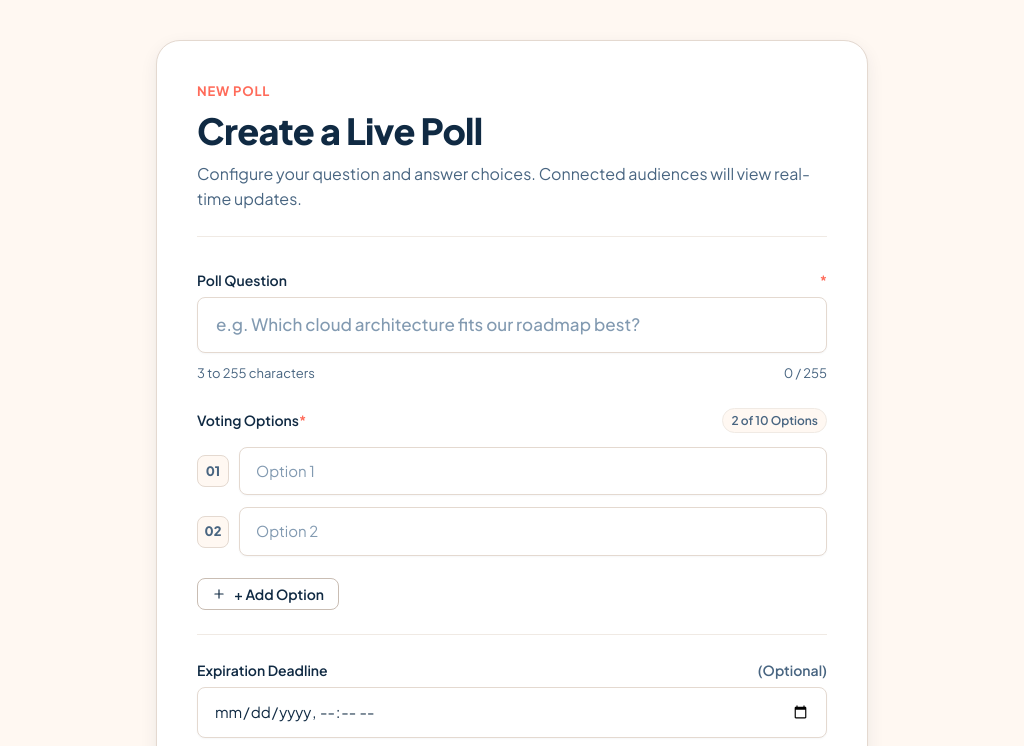
Test: CreatePollPage Validation & Interactions › allows adding options up to 10 and removing down to 2
Expected: the number of fields with placeholder "Option 1" is 2, [239, 447, 827, 495]; [239, 507, 827, 556]
Note: Add 3rd option
Click the button "+ Add Option". click: click(268, 594)
box: [197, 578, 339, 610]
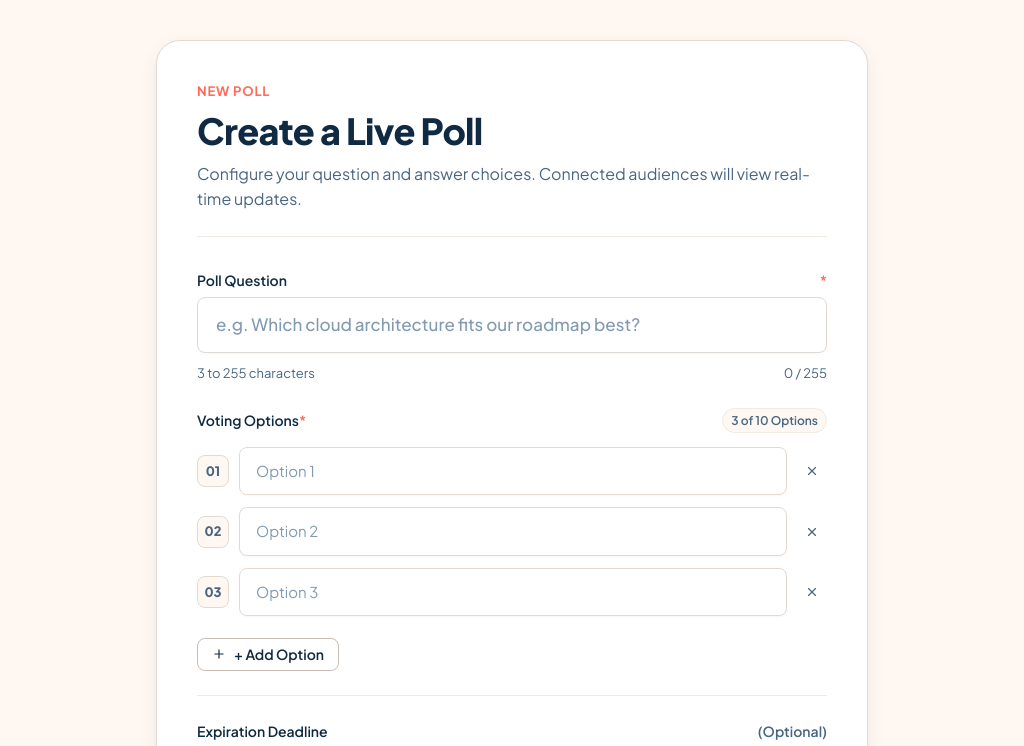
Expected: the number of fields with placeholder "Option 1" is 3, [239, 447, 787, 495]; [239, 507, 787, 556]; [239, 568, 787, 616]
Expected: the button titled "Remove this option" is shown, [797, 456, 827, 486]
Click the button titled "Remove this option". click: click(812, 592)
box: [797, 577, 827, 607]
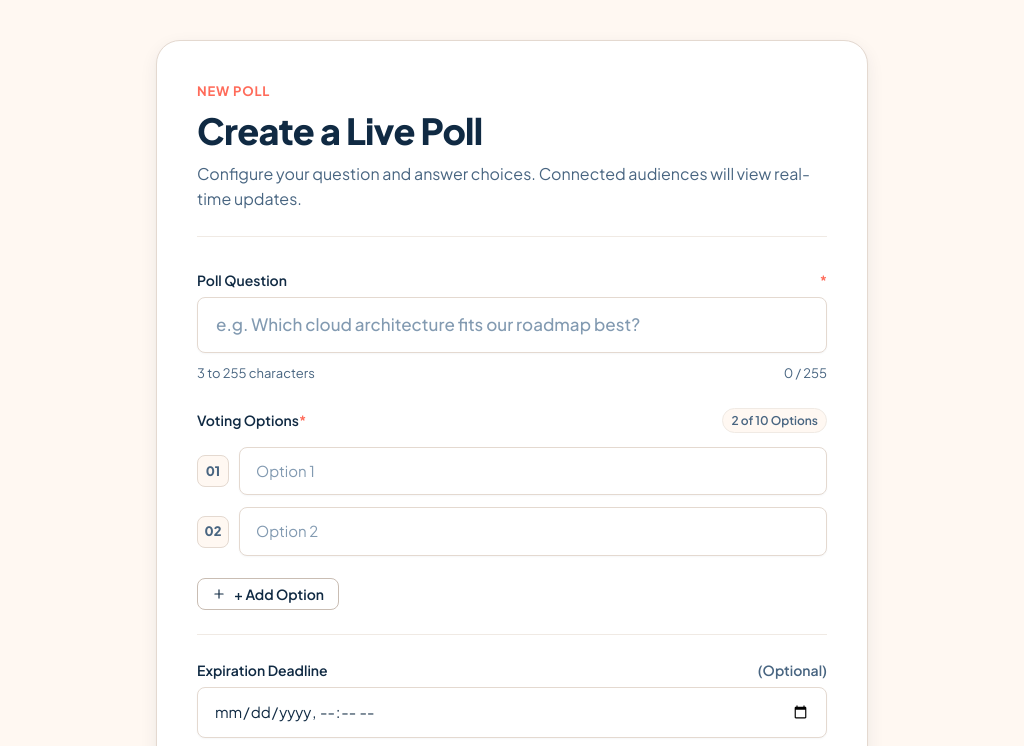
Expected: the number of fields with placeholder "Option 1" is 2, [239, 447, 827, 495]; [239, 507, 827, 556]
